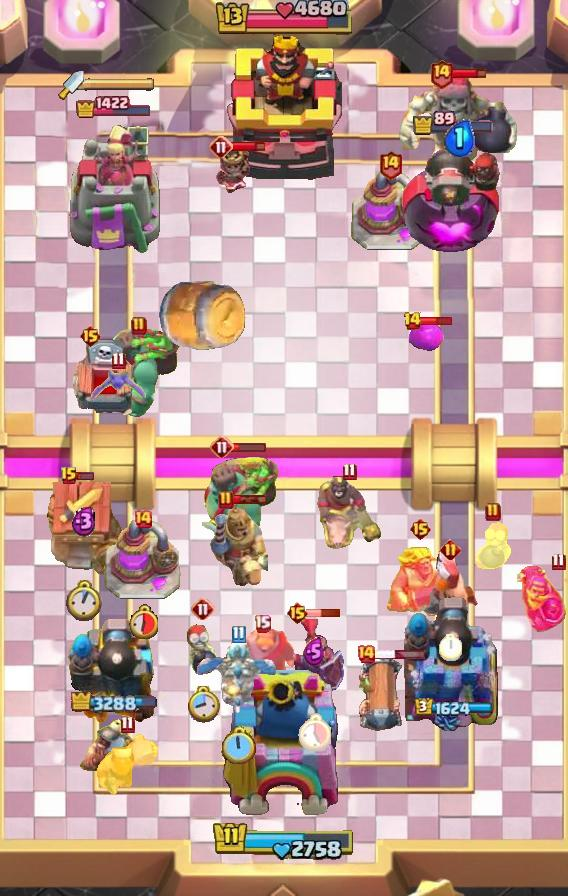bandit: (75, 714, 139, 788)
bar: (67, 122, 161, 256)
barbarian: (88, 368, 148, 406)
battle-healer: (356, 656, 404, 736)
bomber-evolution: (214, 148, 254, 196)
clock: (212, 820, 356, 862), (213, 0, 355, 38)
dirt: (156, 279, 248, 353)
electro-giant: (397, 71, 521, 183)
electro-spirit: (443, 119, 475, 157), (71, 505, 97, 537), (303, 638, 325, 667)
elixir: (66, 580, 102, 622), (220, 725, 256, 766), (187, 686, 221, 724), (297, 713, 331, 751), (128, 604, 158, 639), (438, 634, 461, 661)
elixir-golem-big: (281, 618, 347, 710)
elixir-golem-mid: (70, 338, 140, 424)
emote: (374, 649, 426, 660), (453, 67, 488, 80), (231, 139, 266, 152), (231, 442, 267, 454), (419, 315, 454, 327), (233, 495, 268, 506), (307, 608, 342, 618), (76, 471, 95, 481)
firecracker: (229, 626, 296, 679)
firecracker-evolution: (516, 564, 567, 633)
freeze: (313, 474, 385, 552)
goblin-hut: (383, 543, 457, 621)
ice-golem: (185, 624, 221, 680), (473, 522, 513, 570)
king-tower: (219, 670, 349, 826), (226, 33, 342, 181)
king-tower-bar: (84, 77, 156, 91)
lava-hound: (95, 325, 183, 419), (199, 450, 279, 548)
mighty-miner: (421, 549, 479, 621), (95, 734, 159, 798)
miner: (408, 323, 444, 353)
mini-pekka: (196, 636, 280, 720)
pekka: (351, 170, 429, 252), (104, 519, 182, 601)
ram-rider: (208, 505, 268, 589)
selected: (413, 110, 496, 136), (71, 692, 157, 715), (75, 95, 153, 119), (414, 697, 494, 717)
sparky: (41, 481, 127, 579)
text: (378, 149, 403, 180), (430, 58, 454, 89), (209, 135, 233, 159), (210, 435, 234, 459), (191, 597, 215, 621), (79, 324, 102, 348), (409, 517, 432, 541), (287, 601, 310, 625), (439, 539, 460, 560), (402, 311, 422, 331), (133, 509, 153, 529), (356, 644, 376, 664), (60, 466, 78, 486), (254, 615, 271, 634), (131, 316, 147, 336), (218, 490, 234, 510), (485, 502, 501, 522), (110, 351, 125, 370), (550, 553, 565, 571), (343, 463, 357, 482), (231, 624, 245, 643), (121, 715, 135, 734)
tower-bar: (404, 593, 502, 731), (401, 138, 505, 256), (67, 611, 161, 731)
